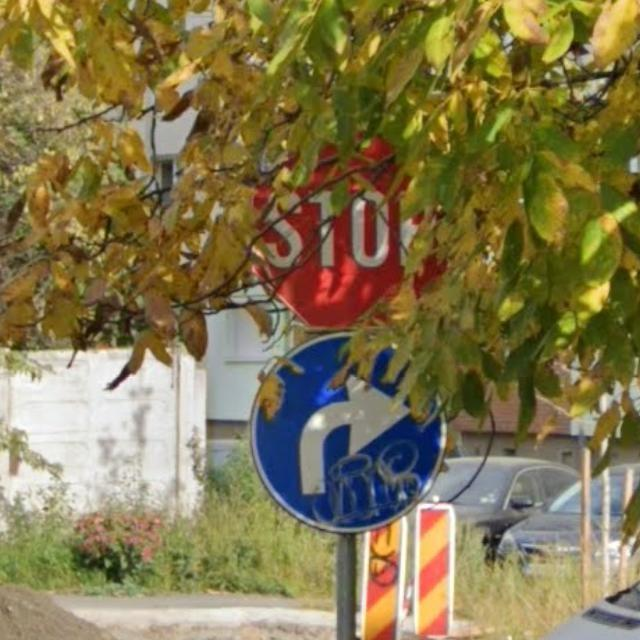prio_stop: (253, 137, 449, 331)
